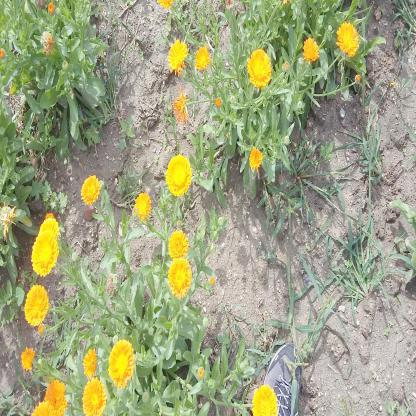marigold: (109, 339, 136, 388), (32, 234, 57, 276), (166, 155, 192, 192), (249, 50, 272, 90), (168, 258, 192, 296), (25, 285, 49, 323), (83, 378, 106, 412), (253, 384, 277, 416), (46, 380, 67, 416), (338, 23, 360, 54), (168, 38, 188, 72), (168, 230, 188, 258), (82, 176, 99, 204), (39, 217, 60, 237), (135, 190, 149, 217), (304, 39, 319, 63), (196, 47, 210, 71), (83, 350, 97, 374), (250, 147, 263, 171)
